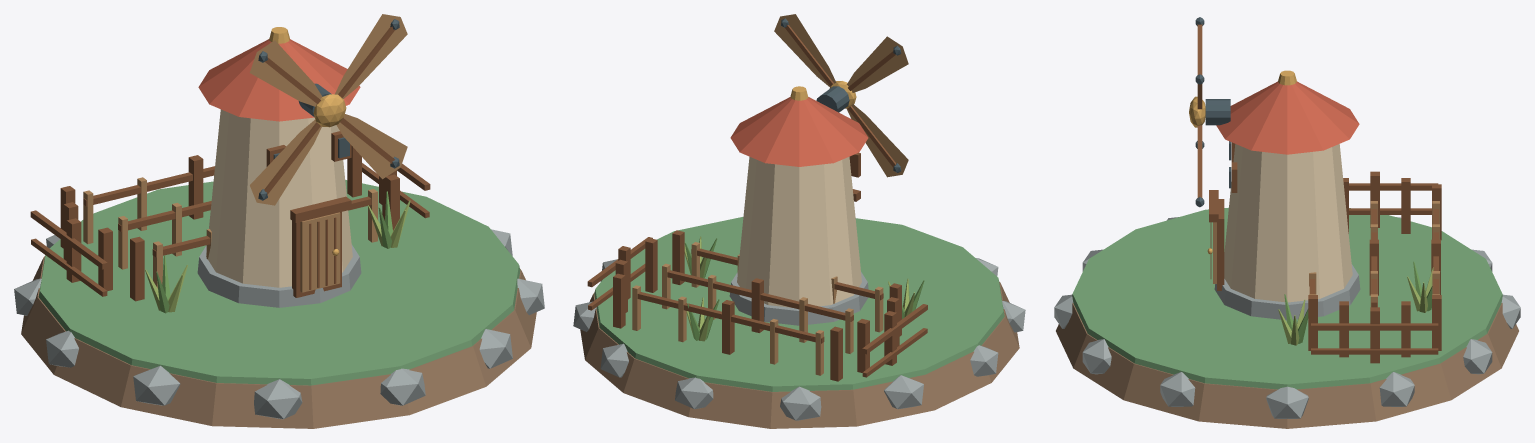
The model's file is asset.glb.
3 renders of one model, left to right at view 1: azimuth 30°, elevation 25°; view 2: azimuth 150°, elevation 25°; view 3: azimuth 270°, elevation 25°, orthographic. The views are drawn at different scales.
Parts seen in each view (by area): view 1: SM_Island_Top, SM_Island_Earth, SM_Tower, SM_Roof, SM_Foundation, SM_Door_Leaf, SM_Rotor_Blade_1, SM_Rotor_Blade_3, SM_Rotor_Blade_0, SM_Rotor_Blade_2, SM_Rim_Stone_08, SM_Rim_Stone_07 (+23 smaller); view 2: SM_Island_Top, SM_Tower, SM_Island_Earth, SM_Roof, SM_Foundation, SM_Rotor_Blade_1, SM_Fence_Back_Rail.001, SM_Fence_Back_Rail.002, SM_Rotor_Blade_0, SM_Rotor_Blade_2, SM_Rim_Stone_04, SM_Rim_Stone_05 (+18 smaller); view 3: SM_Island_Top, SM_Tower, SM_Island_Earth, SM_Roof, SM_Foundation, SM_Rim_Stone_00, SM_Fence_Rail.002, SM_Rim_Stone_01, SM_Rim_Stone_11, SM_Fence_Rail.003, SM_Rim_Stone_02, SM_Rim_Stone_10 (+12 smaller).
Part boxes in pixels (left/top/right/bottom): SM_Island_Top: left=38, top=180, right=520, bottom=385; SM_Island_Earth: left=21, top=256, right=536, bottom=428; SM_Tower: left=206, top=109, right=352, bottom=287; SM_Roof: left=198, top=39, right=360, bottom=121; SM_Foundation: left=197, top=244, right=361, bottom=307; SM_Door_Leaf: left=300, top=212, right=340, bottom=292; SM_Rotor_Blade_1: left=249, top=40, right=322, bottom=106; SM_Rotor_Blade_3: left=336, top=114, right=407, bottom=179; SM_Rotor_Blade_0: left=334, top=14, right=407, bottom=98; SM_Rotor_Blade_2: left=250, top=120, right=321, bottom=205; SM_Rim_Stone_08: left=254, top=379, right=302, bottom=419; SM_Rim_Stone_07: left=133, top=365, right=180, bottom=405; SM_Island_Top: left=594, top=217, right=1004, bottom=391; SM_Tower: left=737, top=156, right=861, bottom=307; SM_Island_Earth: left=580, top=282, right=1019, bottom=428; SM_Roof: left=730, top=97, right=868, bottom=166; SM_Foundation: left=729, top=272, right=868, bottom=325; SM_Rotor_Blade_1: left=846, top=36, right=908, bottom=92; SM_Fence_Back_Rail.001: left=667, top=270, right=853, bottom=321; SM_Fence_Back_Rail.002: left=637, top=292, right=824, bottom=343; SM_Rotor_Blade_0: left=774, top=14, right=836, bottom=87; SM_Rotor_Blade_2: left=846, top=104, right=908, bottom=177; SM_Rim_Stone_04: left=780, top=386, right=821, bottom=420; SM_Rim_Stone_05: left=884, top=375, right=923, bottom=409; SM_Island_Top: left=1072, top=207, right=1502, bottom=389; SM_Tower: left=1224, top=144, right=1352, bottom=302; SM_Island_Earth: left=1056, top=303, right=1518, bottom=428; SM_Roof: left=1216, top=81, right=1359, bottom=154; SM_Foundation: left=1214, top=264, right=1360, bottom=320; SM_Rim_Stone_00: left=1266, top=386, right=1308, bottom=418; SM_Fence_Rail.002: left=1311, top=323, right=1438, bottom=330; SM_Rim_Stone_01: left=1379, top=372, right=1414, bottom=406; SM_Rim_Stone_11: left=1160, top=372, right=1195, bottom=406; SM_Fence_Rail.003: left=1311, top=348, right=1438, bottom=354; SM_Rim_Stone_02: left=1463, top=339, right=1492, bottom=374; SM_Rim_Stone_10: left=1082, top=339, right=1111, bottom=374.
Bounding box in the file's own units: 6.44 × 4.38 × 6.34.
